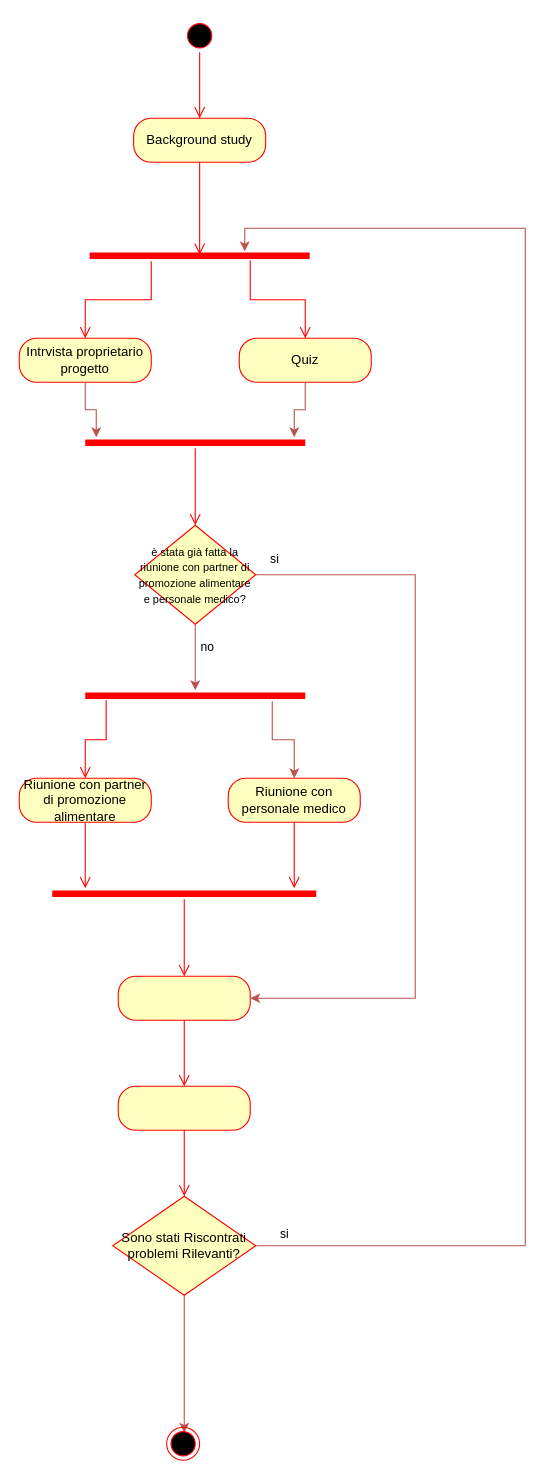
The diagram is 553 pixels wide and 1480 high, and some of its shapes have lost their labels. Here are the shapes that lost their labels. From the top down, the box of each, then its label:
(117, 975, 250, 1020): Presentazione del sistema
(117, 1085, 250, 1130): Prototipazione
